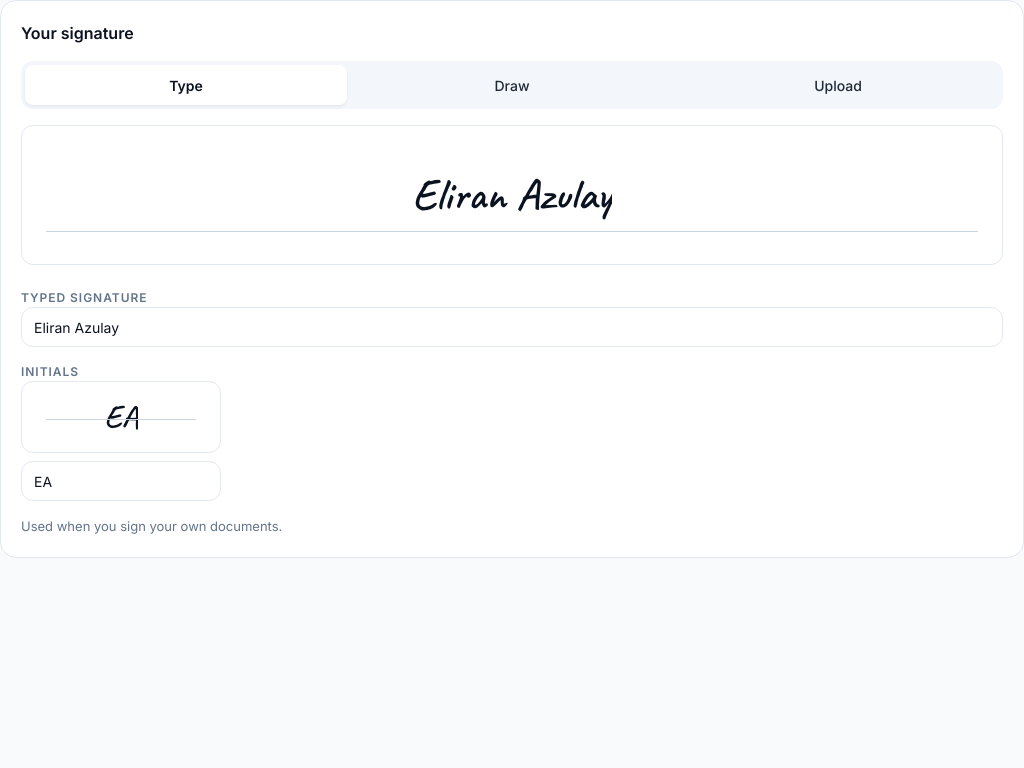
Test: SignatureSection › will not save an empty typed signature
The width and height of the screenshot is (1024, 768).
Clear the field labelled "Typed signature" at {"x": 512, "y": 327}, box x1=21 y1=307 x2=1003 y2=347
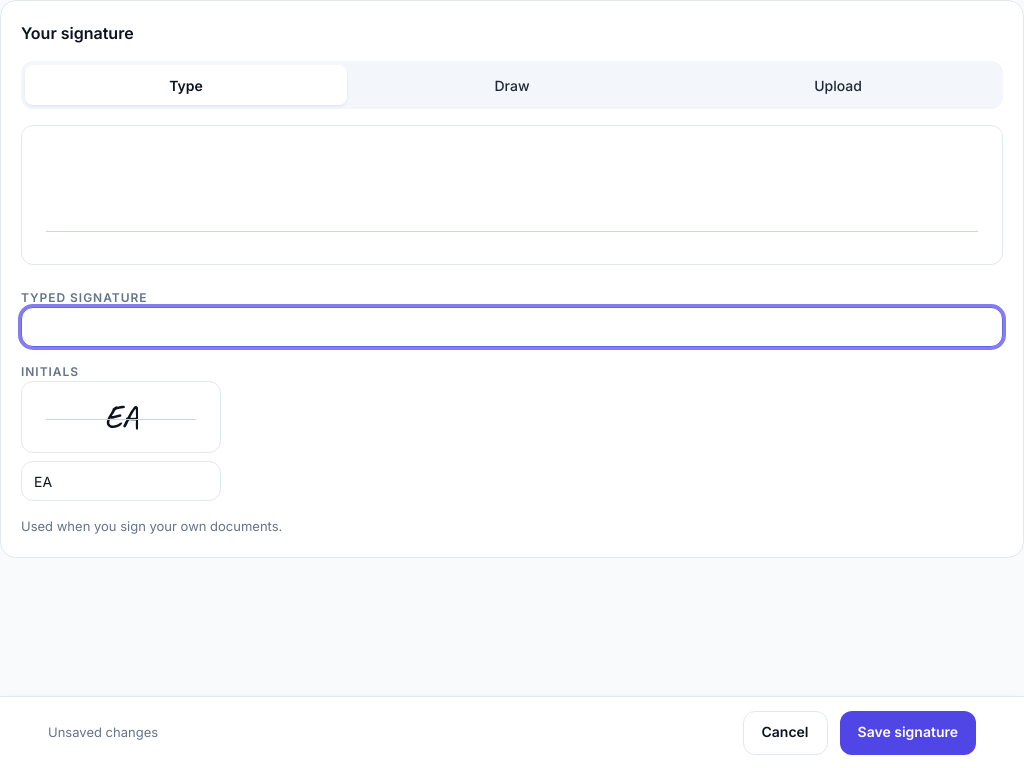
Click the button "Save signature" at {"x": 908, "y": 732}, box x1=840 y1=710 x2=976 y2=754
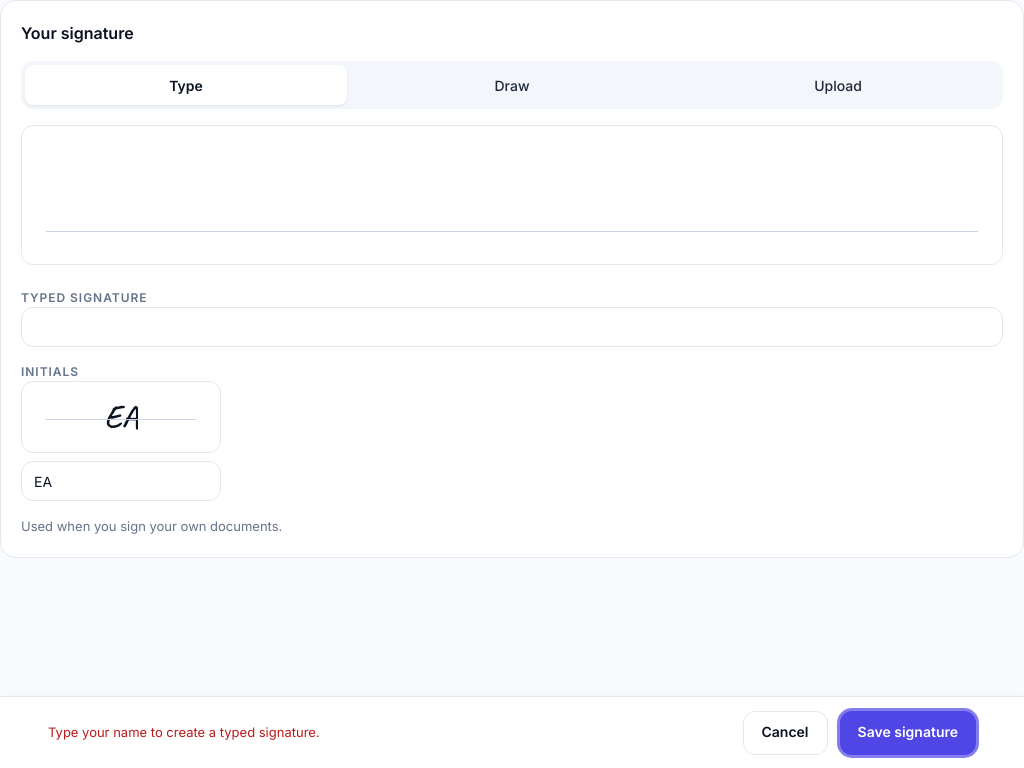
Check: the message reads "Type your name to create a typed signature.", box x1=48 y1=724 x2=320 y2=740
